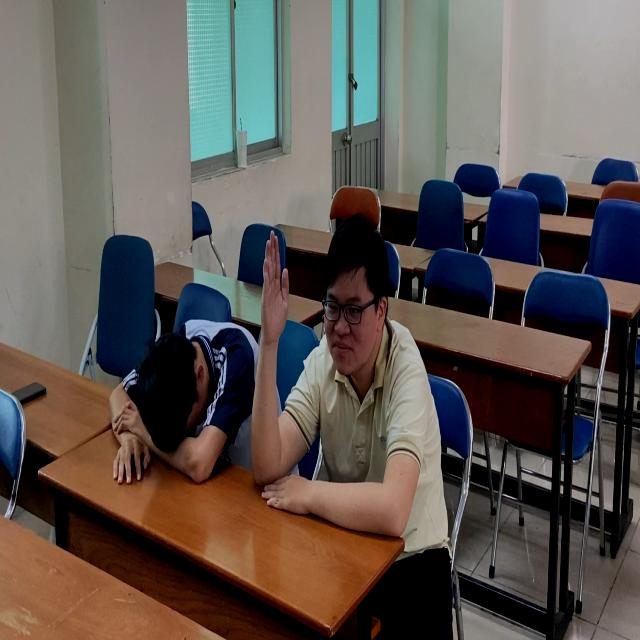raise_hand: (254, 207, 431, 547)
sleep: (100, 278, 303, 495)
